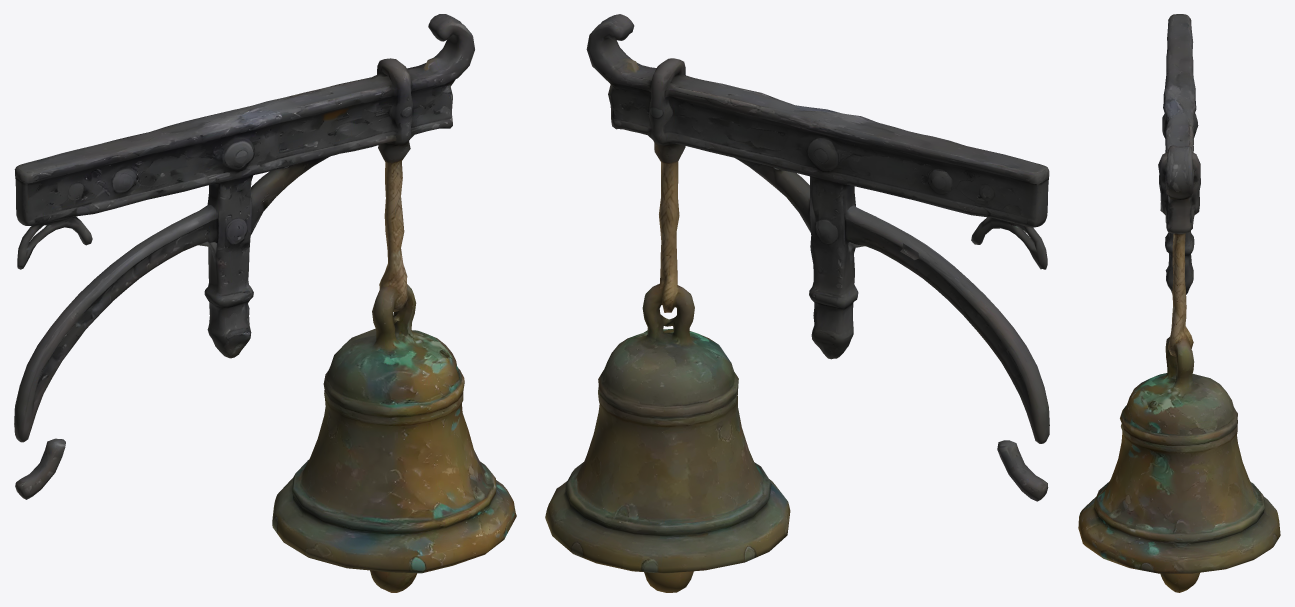
The model's file is gate_bell_tripo.glb.
3 views of the same model, side by side, from view 1: azimuth 30°, elevation 25°; view 2: azimuth 150°, elevation 25°; view 3: azimuth 270°, elevation 25° (orthographic). The views are drawn at different scales.
Parts seen in each view (by area): view 1: bronze bell 3d model; view 2: bronze bell 3d model; view 3: bronze bell 3d model.
Part boxes in pixels (<box>): bronze bell 3d model: <box>14,14,516,592</box>; bronze bell 3d model: <box>545,14,1049,592</box>; bronze bell 3d model: <box>1078,14,1280,592</box>.
Bounding box in the file's own units: 0.8805 × 0.9757 × 0.3848.
1 material, 1 textured.
